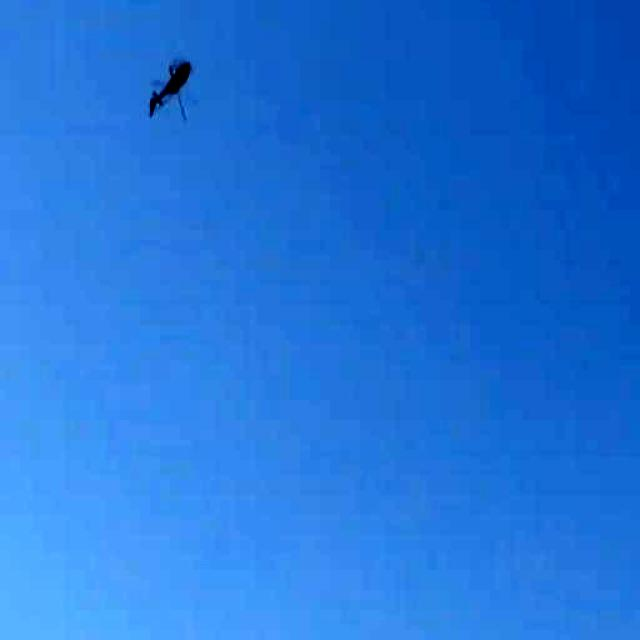drone: (132, 30, 201, 125)
